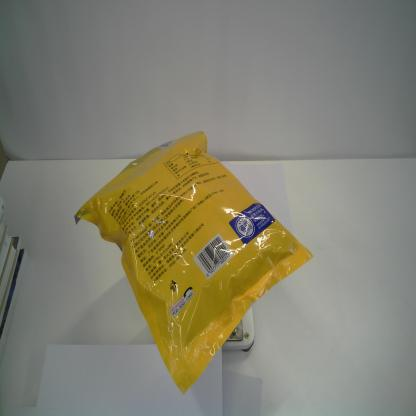Dried Food: (70, 125, 314, 398)
